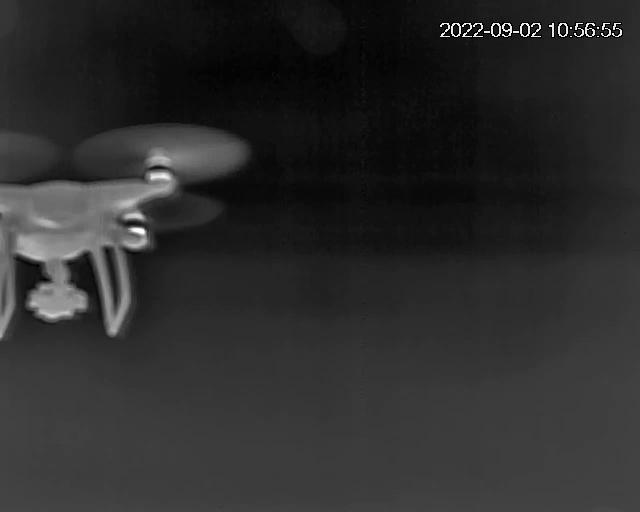DJI-Phantom: (2, 137, 180, 338)
